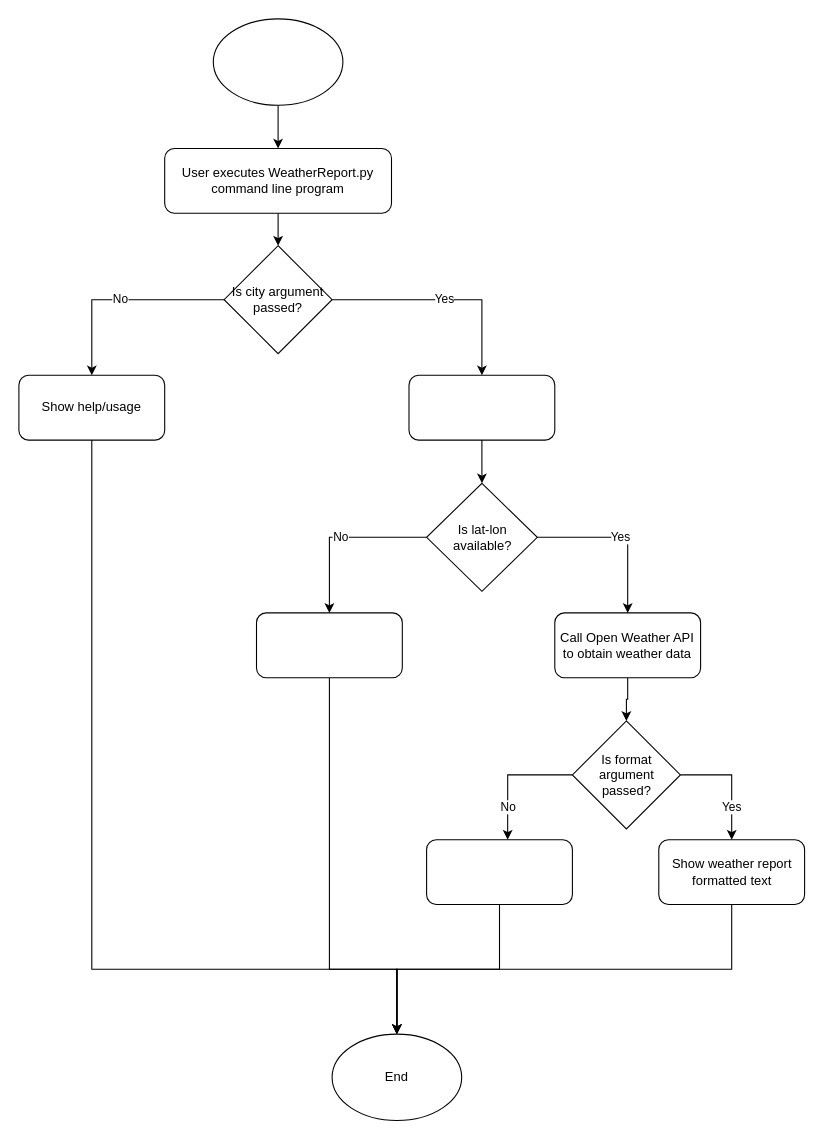
The diagram is 824 pixels wide and 1139 high, and some of its shapes have lost their labels. The shapes that lost their labels are listed below. From the top down, each one's centre as x and y in pixels, then its label:
At point (277, 61): "Start".
At point (481, 407): "Obtain city longitude and latitude".
At point (328, 645): "Show None".
At point (499, 872): "Show weather report in JSON format".
